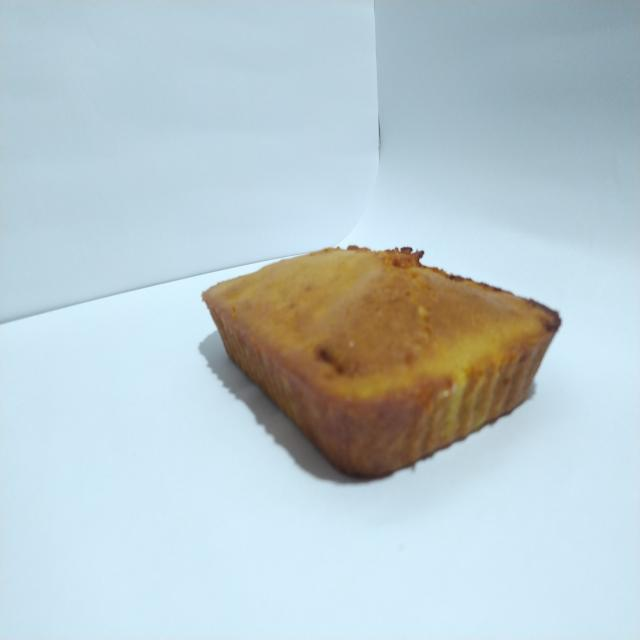Sopa: (192, 230, 573, 500)
